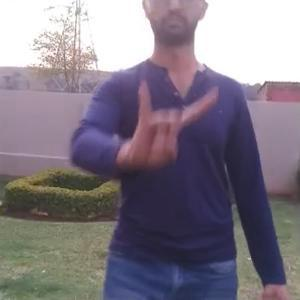takeoff-hand: (128, 71, 222, 174)
